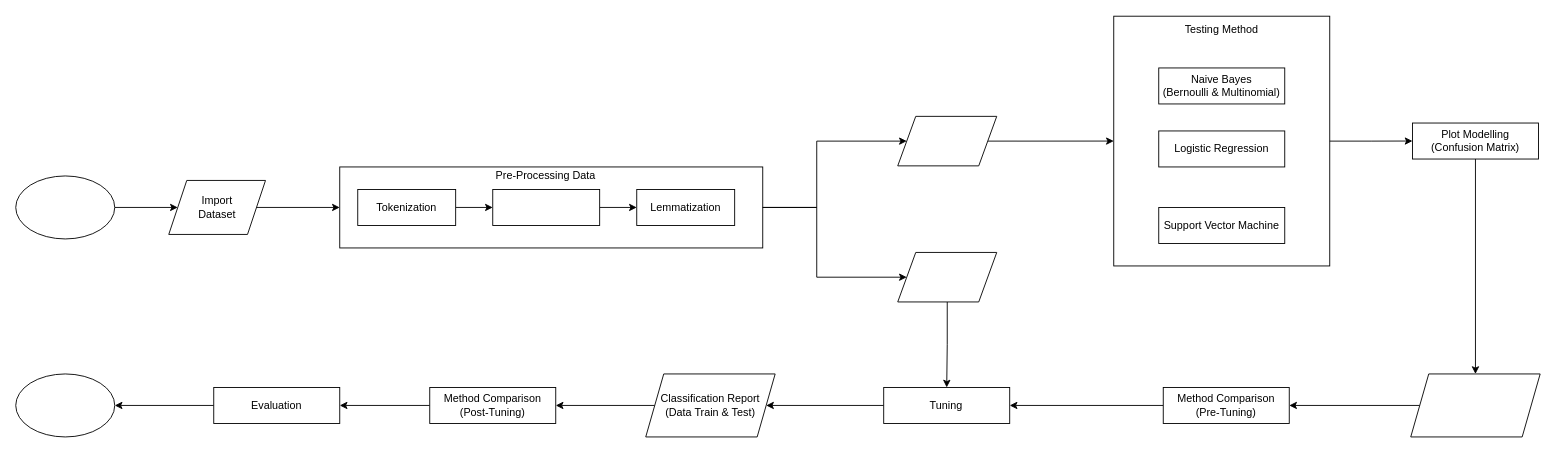
Image size: 1556x453. Some labels were removed from this diagram. The shapes that lost their labels are listed below. From the top down, each one's centre as x and y in pixels, then its label:
the point at 947,140: Data Train
the point at 65,207: START
the point at 546,207: Remove Stopwords
the point at 947,277: Data Test
the point at 65,405: END
the point at 1475,405: Classification Report (Data Train)
